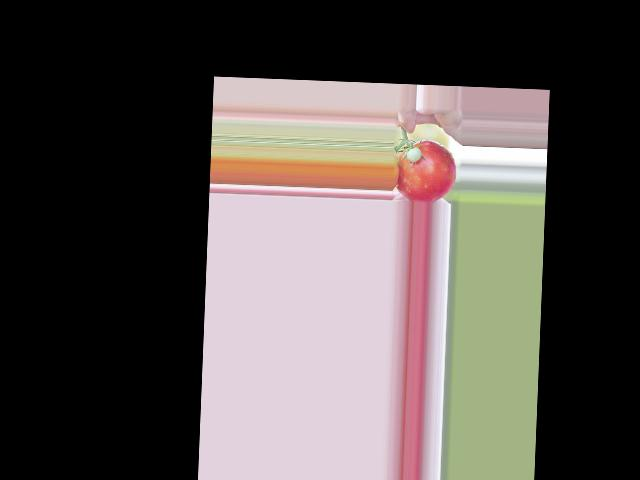tomato: (395, 138, 457, 204)
